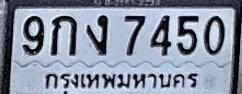0: (204, 14, 225, 54)
4: (150, 14, 171, 56)
5: (177, 14, 199, 54)
7: (124, 15, 145, 55)
9: (22, 14, 43, 54)
A01: (50, 14, 77, 56)
A07: (86, 14, 108, 54)
BKK: (40, 66, 204, 94)
